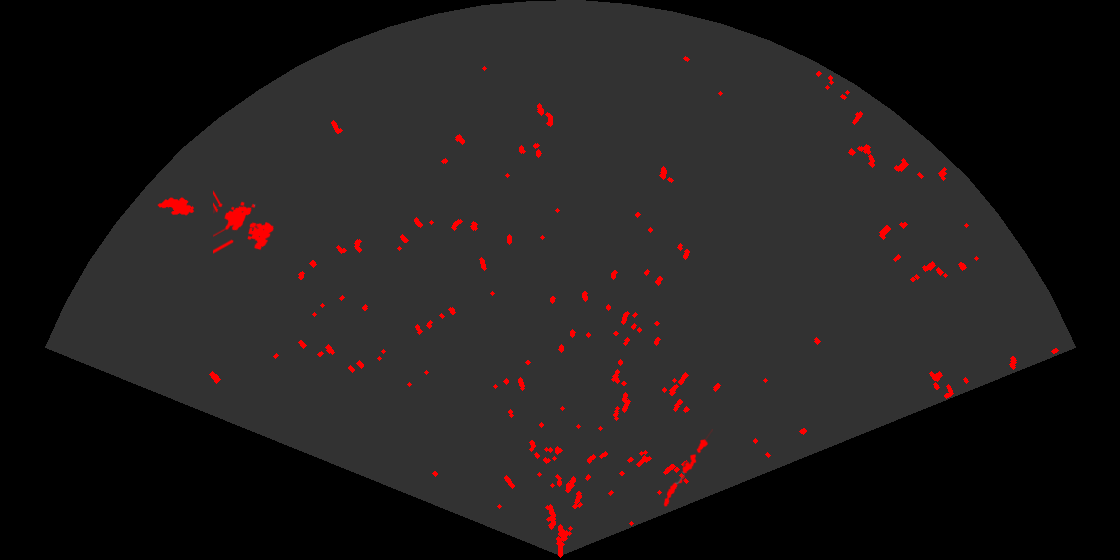AUV: (156, 196, 196, 217)
cage: (213, 189, 275, 255)
chain: (662, 429, 713, 508)
